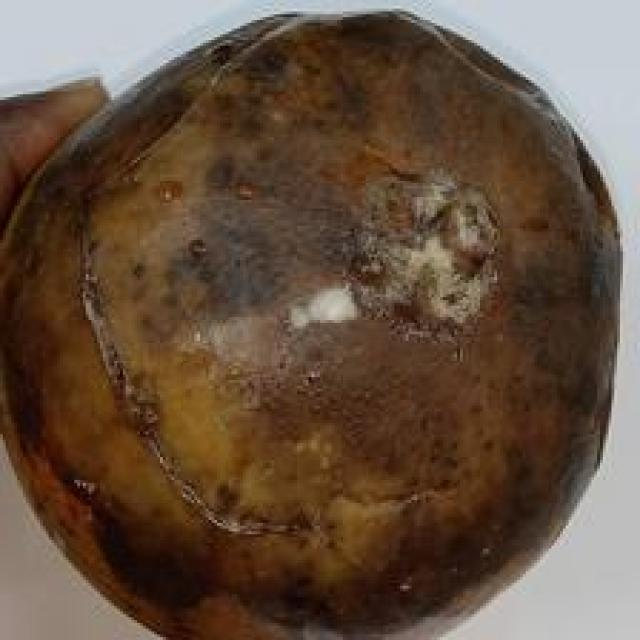Bad_Mango: (0, 12, 621, 640)
